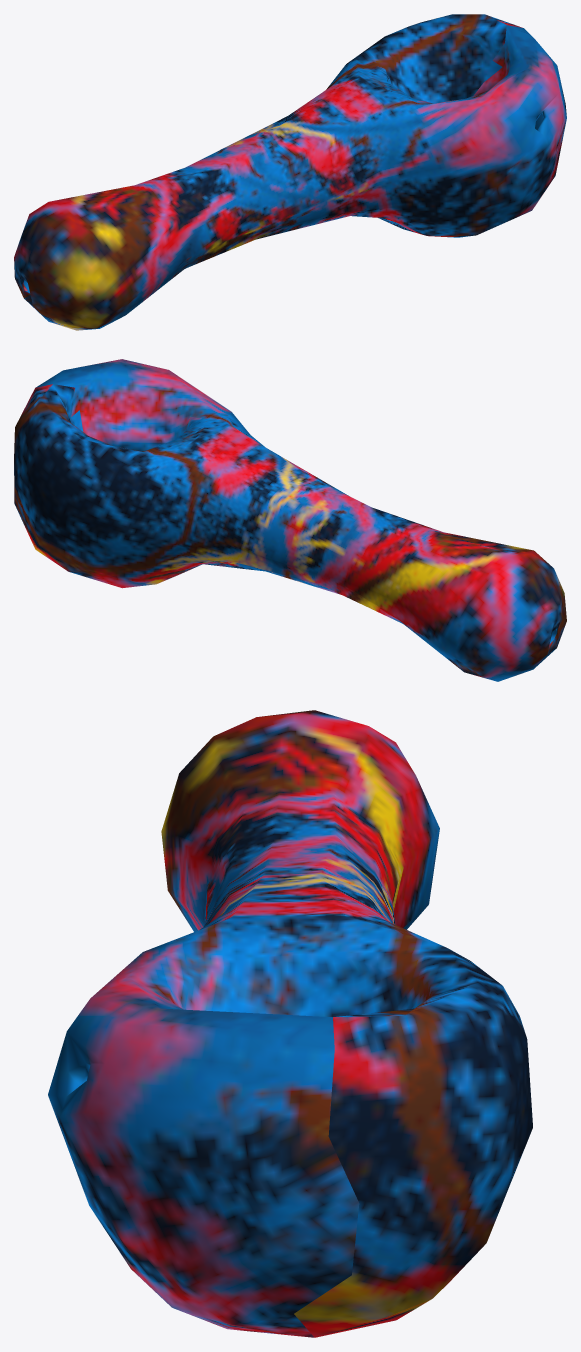
The model's file is SmokePipeGlassEmpty.fbx.
3 views of the same model, one above another, from view 1: azimuth 30°, elevation 25°; view 2: azimuth 150°, elevation 25°; view 3: azimuth 270°, elevation 25° (orthographic). The views are drawn at different scales.
Parts seen in each view (by area): view 1: SmokePipe.001; view 2: SmokePipe.001; view 3: SmokePipe.001.
Boxes of the visible parts, x1,y1,x2,y2 form: SmokePipe.001: (14, 14, 566, 330); SmokePipe.001: (14, 359, 566, 681); SmokePipe.001: (48, 710, 532, 1337).
Size of the model in its own units: 0.0991 by 0.0335 by 0.0394.
